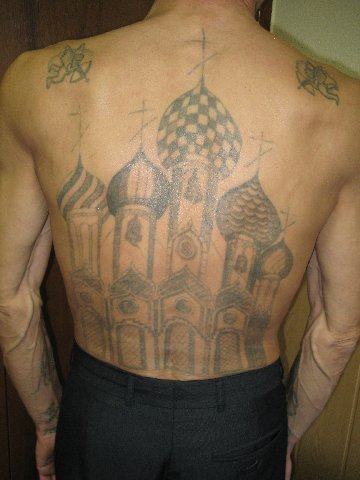tatu1_angel: (290, 52, 343, 111), (45, 46, 97, 94)
